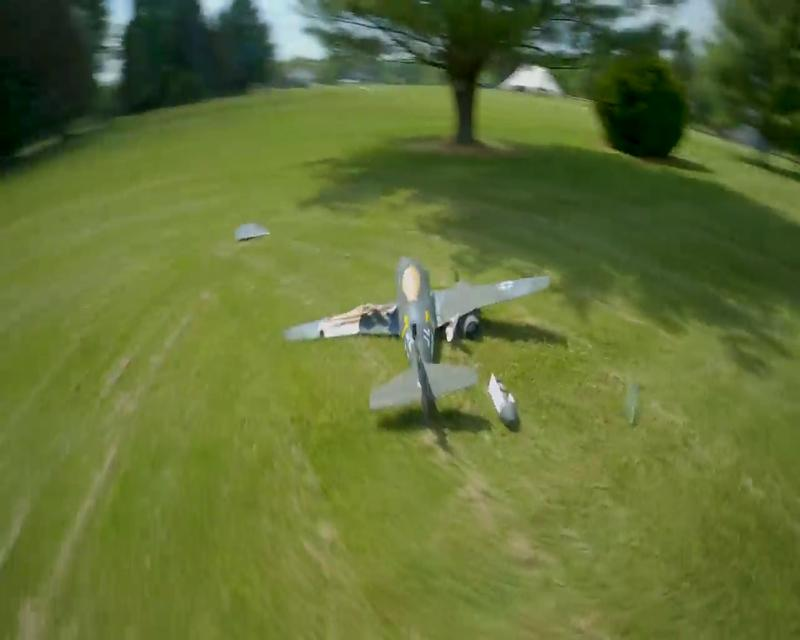UAV: (283, 254, 551, 430)
